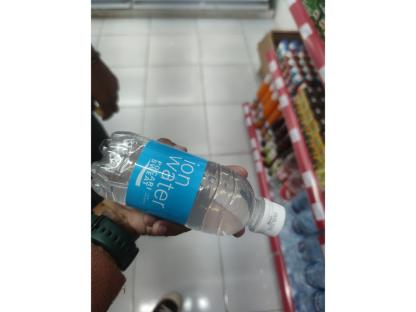Plastic Bottle: (74, 116, 296, 258)
